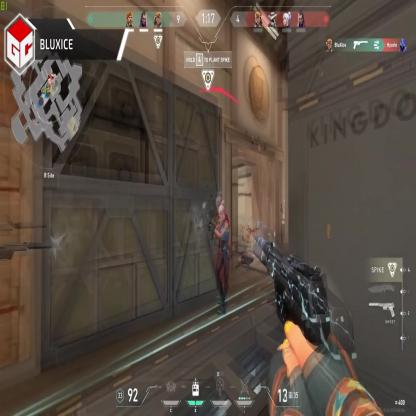enemy: (211, 203, 230, 312), (280, 200, 290, 249)
enemy_head: (218, 203, 225, 223), (283, 199, 287, 211)
